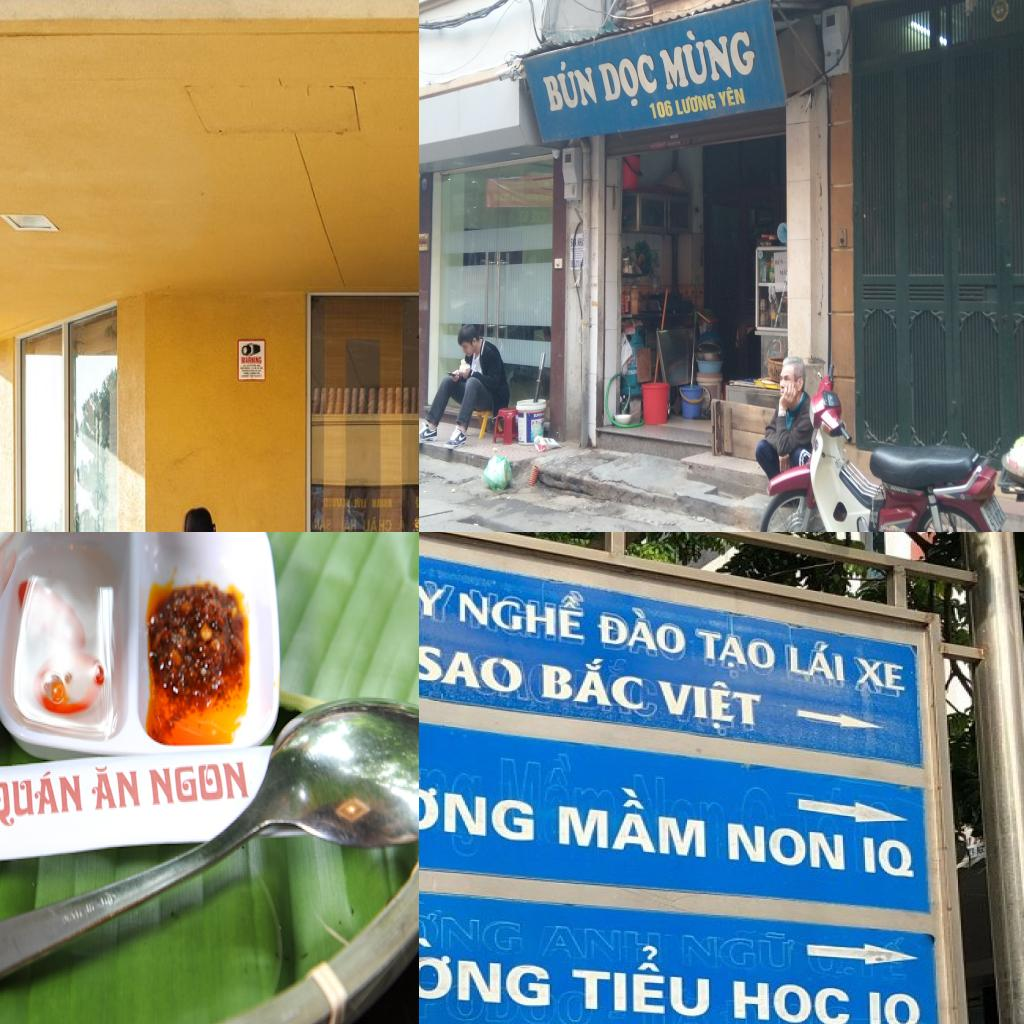text: (555, 782, 712, 866), (419, 751, 542, 855), (419, 922, 557, 1013), (565, 942, 715, 1024), (452, 577, 594, 649), (656, 15, 758, 92), (724, 818, 850, 876), (536, 654, 649, 717), (654, 675, 767, 738), (419, 639, 529, 703), (727, 975, 860, 1024), (597, 602, 689, 663), (0, 767, 86, 830), (147, 758, 251, 808), (694, 627, 778, 682), (785, 629, 851, 690), (598, 50, 660, 114), (539, 54, 599, 114), (857, 838, 920, 886), (851, 650, 911, 700), (87, 764, 143, 812), (865, 987, 931, 1024), (419, 567, 449, 625), (674, 91, 717, 116), (716, 84, 746, 109), (649, 99, 674, 120), (982, 495, 998, 521), (240, 356, 263, 365), (890, 485, 909, 495), (769, 364, 780, 378), (774, 258, 784, 267), (778, 268, 786, 276), (533, 412, 543, 418), (576, 238, 582, 248), (628, 369, 636, 376), (570, 238, 574, 248)
